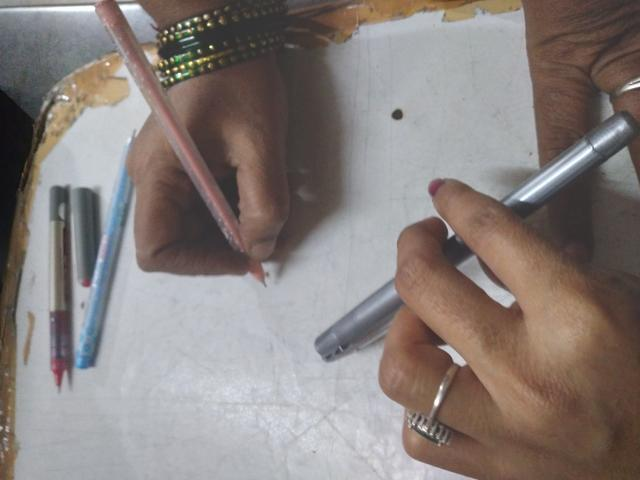PEN: (98, 300, 404, 480), (164, 117, 345, 292), (85, 31, 337, 141)
